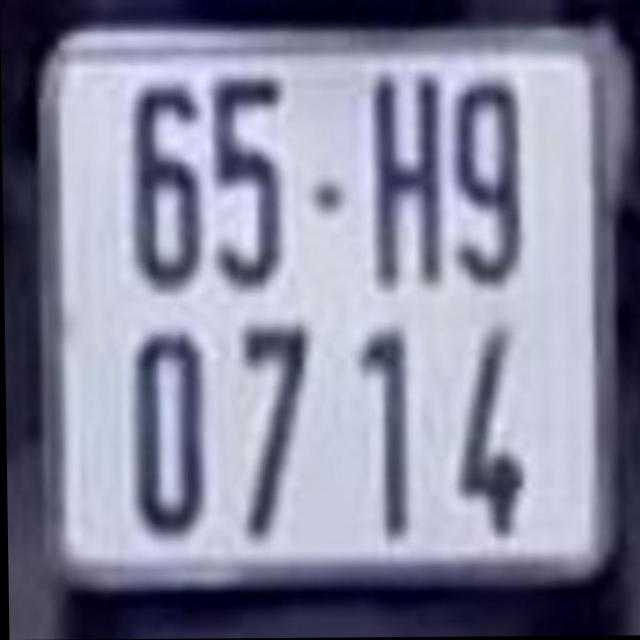0: (133, 343, 215, 535)
1: (355, 329, 426, 541)
4: (453, 316, 536, 537)
5: (209, 67, 286, 287)
6: (128, 85, 200, 283)
7: (234, 315, 315, 545)
9: (457, 80, 532, 293)
H: (367, 68, 445, 296)
